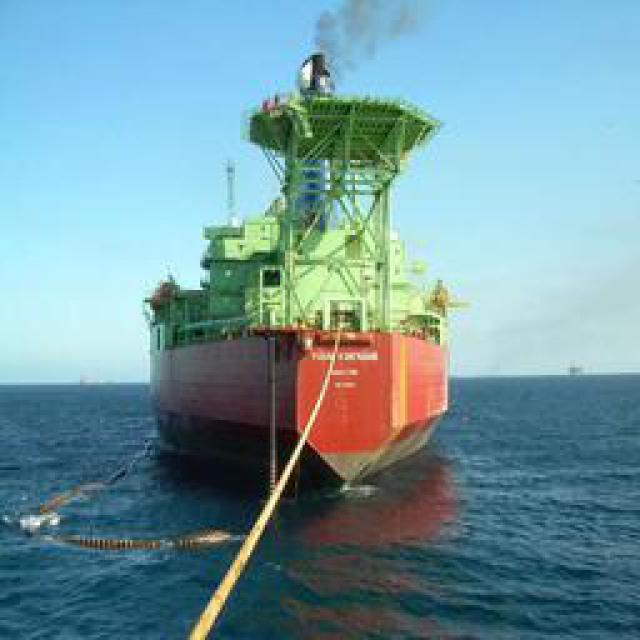Ship: (141, 64, 466, 484)
